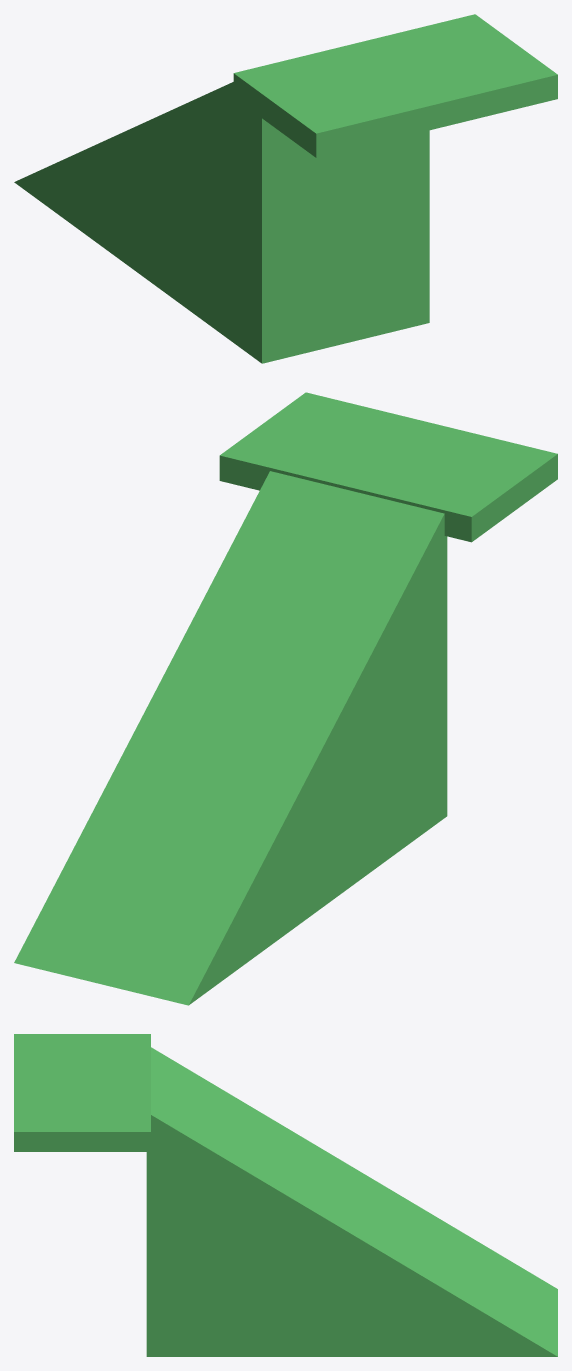
File: rooftop_stair_access_collision.glb
The picture shows the model from 3 angles, top to bottom: view 1: azimuth 30°, elevation 25°; view 2: azimuth 150°, elevation 25°; view 3: azimuth 270°, elevation 25°; orthographic projection. The views are drawn at different scales.
Visible parts, largest first — view 1: rooftop_stair_access-col-left-wall, rooftop_stair_access-col-stair, rooftop_stair_access-col-landing; view 2: rooftop_stair_access-col-stair, rooftop_stair_access-col-left-wall, rooftop_stair_access-col-landing; view 3: rooftop_stair_access-col-stair, rooftop_stair_access-col-landing, rooftop_stair_access-col-left-wall.
Boxes of the visible parts, box(x1,y1,x2,y2) form: rooftop_stair_access-col-left-wall: box(14, 82, 288, 363); rooftop_stair_access-col-stair: box(284, 130, 429, 357); rooftop_stair_access-col-landing: box(233, 14, 557, 157); rooftop_stair_access-col-stair: box(14, 471, 420, 999); rooftop_stair_access-col-left-wall: box(165, 508, 447, 1005); rooftop_stair_access-col-landing: box(219, 392, 557, 542); rooftop_stair_access-col-stair: box(146, 1056, 557, 1356); rooftop_stair_access-col-landing: box(14, 1034, 150, 1151); rooftop_stair_access-col-left-wall: box(151, 1047, 557, 1298).
Size of the model in its own units: 2.7 by 3.15 by 6.35.
